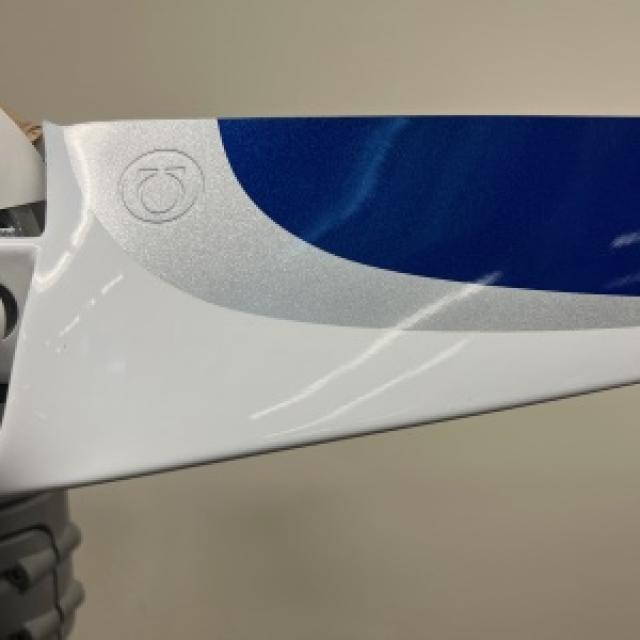healthy: (0, 115, 638, 493), (68, 384, 638, 638)
